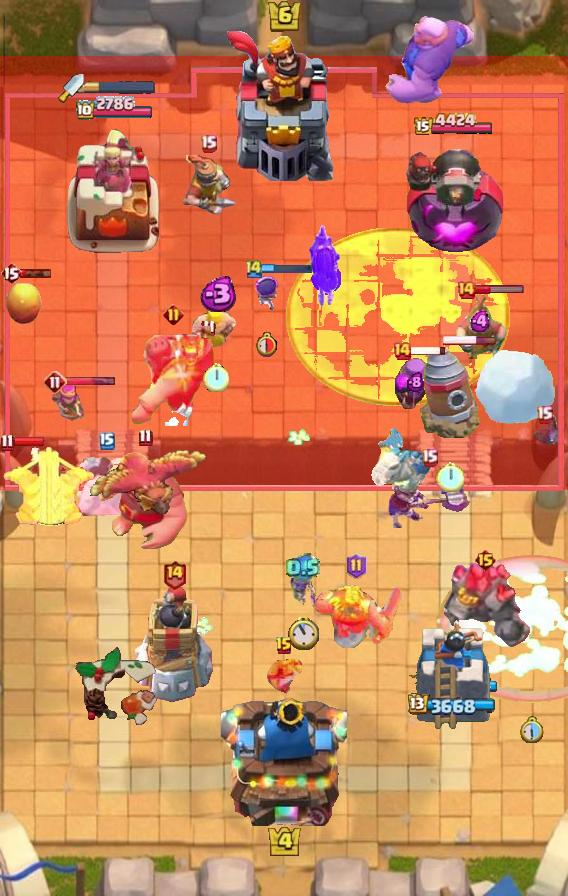archer: (192, 308, 240, 352)
balloon: (95, 449, 189, 551), (383, 14, 477, 106)
bar: (64, 124, 164, 256)
barbarian-barrel: (528, 414, 560, 450)
cannon: (51, 381, 89, 425)
cannoneer-tower: (440, 561, 530, 649)
earthquake: (176, 155, 240, 217), (455, 295, 507, 359)
electro-spirit: (195, 276, 238, 312), (286, 553, 320, 583), (470, 311, 492, 333), (407, 372, 424, 392)
elixir: (288, 616, 319, 650), (436, 461, 464, 491), (203, 362, 229, 392), (520, 716, 545, 744), (255, 331, 278, 357)
emote: (262, 261, 314, 274), (443, 334, 497, 345), (64, 376, 116, 387), (475, 285, 526, 296), (409, 344, 446, 356), (10, 436, 46, 448), (16, 269, 51, 280)
goblin: (287, 566, 319, 608), (251, 274, 281, 314)
goblin-ball: (305, 214, 341, 308)
goblin-hut: (310, 582, 402, 648)
hog: (4, 278, 42, 326)
king-tower: (223, 31, 345, 181), (221, 690, 347, 826)
king-tower-bar: (84, 80, 156, 94)
lava-hound: (129, 316, 217, 426)
lava-pup: (0, 447, 98, 529)
magic-archer: (417, 344, 483, 442)
mini-pekka: (369, 427, 433, 495)
mother-witch: (80, 448, 210, 522)
phoenix-big: (436, 553, 568, 704)
phoenix-egg: (286, 228, 510, 406)
queen-tower: (409, 616, 497, 731)
rage: (75, 455, 139, 523)
rascal-girl: (392, 355, 438, 421)
selected: (414, 112, 495, 138), (74, 96, 154, 122), (408, 694, 498, 717)
tesla-evolution: (387, 465, 471, 532)
text: (162, 559, 186, 589), (43, 370, 67, 394), (475, 548, 498, 572), (346, 553, 367, 579), (0, 261, 22, 285), (163, 303, 185, 324), (244, 257, 264, 279), (456, 280, 476, 300), (392, 341, 412, 361), (275, 636, 293, 656), (199, 134, 217, 153), (536, 405, 553, 424), (421, 449, 438, 468), (99, 432, 115, 450), (138, 428, 153, 447), (1, 433, 16, 452)
tower-bar: (401, 138, 505, 256)
wall-breaker: (474, 348, 558, 426)
zap: (266, 656, 302, 696)
zappy: (131, 584, 217, 704)
